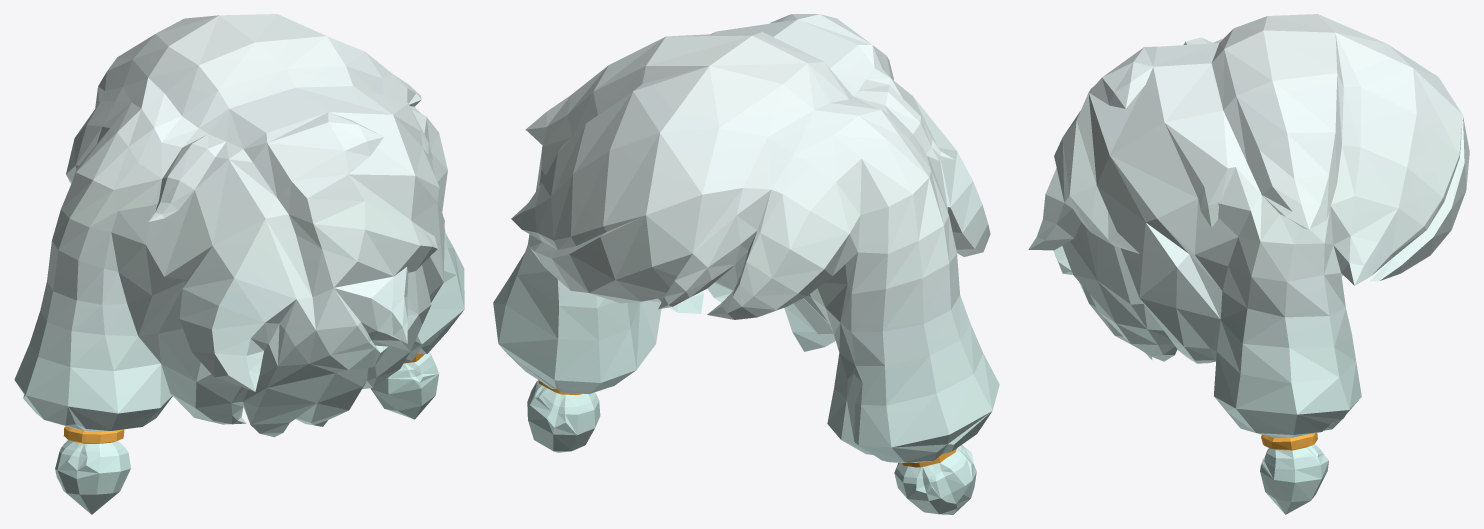
The model's file is CharSkyKid_Hair_AP22Pigtail.glb.
3 renders of one model, left to right at view 1: azimuth 30°, elevation 25°; view 2: azimuth 150°, elevation 25°; view 3: azimuth 270°, elevation 25°, orthographic. The views are drawn at different scales.
Visible parts, largest first — view 1: CharSkyKid_Hair_AP22Pigtail; view 2: CharSkyKid_Hair_AP22Pigtail; view 3: CharSkyKid_Hair_AP22Pigtail.
Boxes of the visible parts, box(x1,y1,x2,y2) form: CharSkyKid_Hair_AP22Pigtail: box(14, 14, 464, 514); CharSkyKid_Hair_AP22Pigtail: box(493, 14, 999, 514); CharSkyKid_Hair_AP22Pigtail: box(1028, 14, 1469, 514).
Bounding box in the file's own units: 3.84 × 3.44 × 3.4.
1 material, 1 textured.
